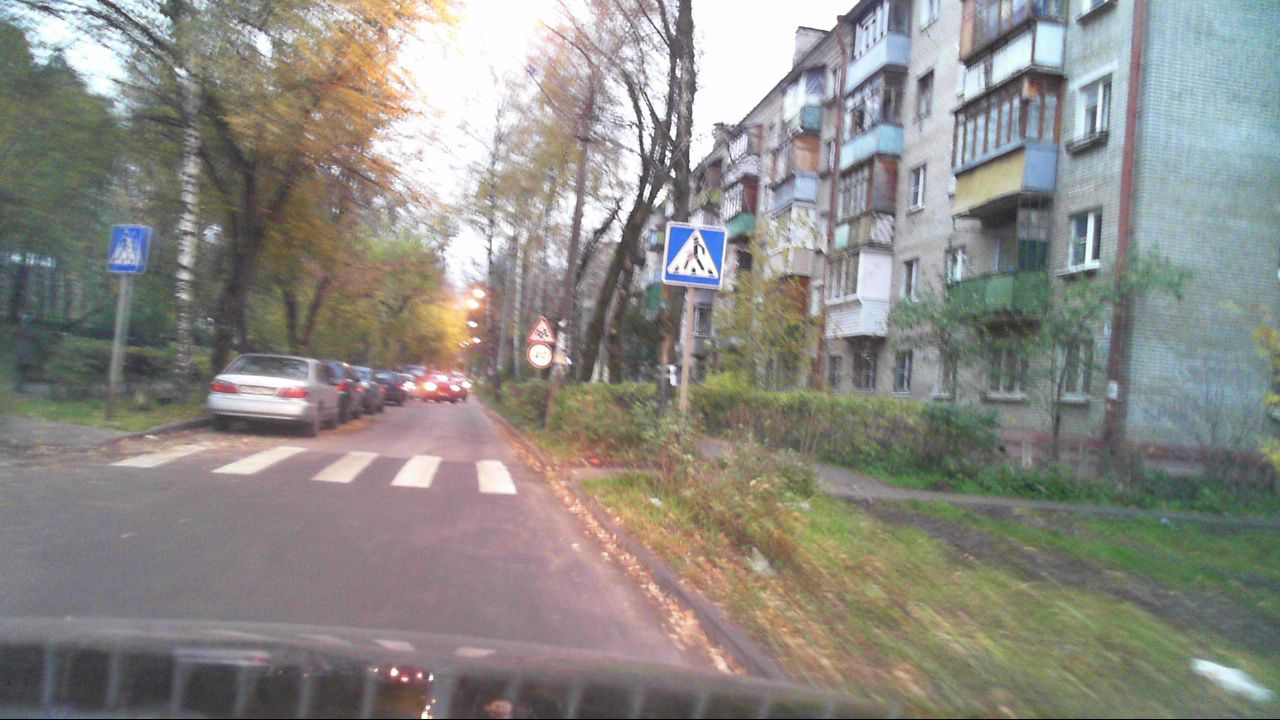speed_warning_40: (527, 343, 553, 368)
